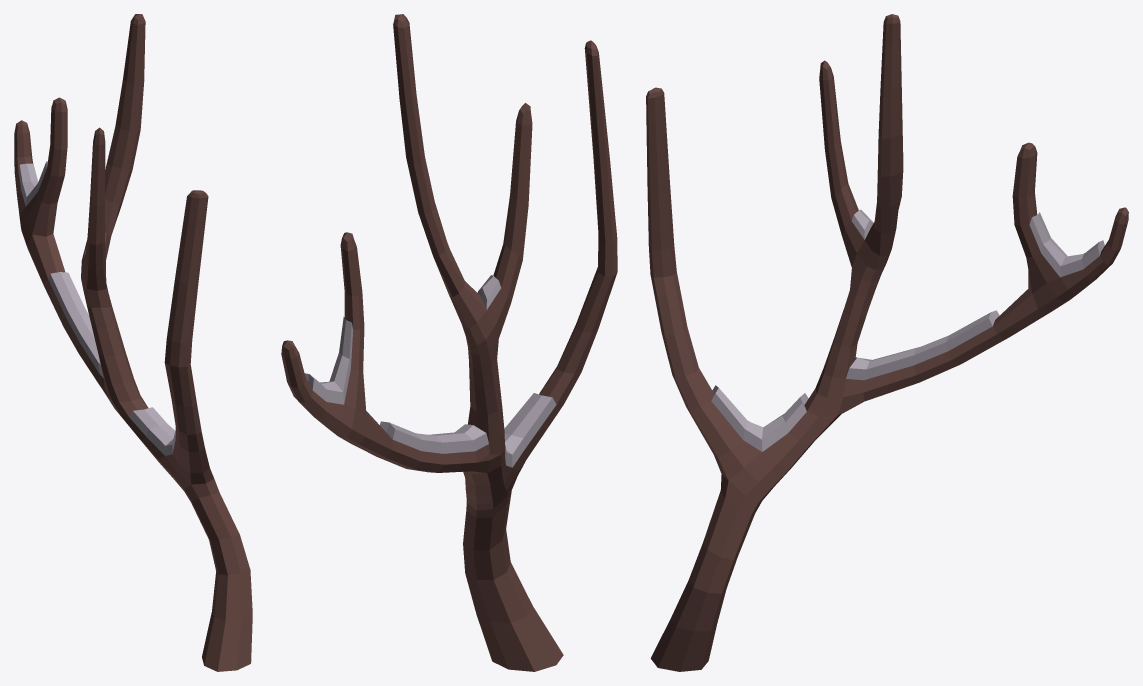
Rendered from willow_dead_snow1.glb.
3 renders of one model, left to right at view 1: azimuth 30°, elevation 25°; view 2: azimuth 150°, elevation 25°; view 3: azimuth 270°, elevation 25°, orthographic. The views are drawn at different scales.
Parts seen in each view (by area): view 1: Willow_Dead_Snow_1; view 2: Willow_Dead_Snow_1; view 3: Willow_Dead_Snow_1.
Part boxes in pixels (left/top/right/bottom): Willow_Dead_Snow_1: left=14, top=14, right=252, bottom=671; Willow_Dead_Snow_1: left=281, top=14, right=617, bottom=671; Willow_Dead_Snow_1: left=646, top=14, right=1128, bottom=671.
Bounding box in the file's own units: 0.4992 × 2.69 × 1.81.
